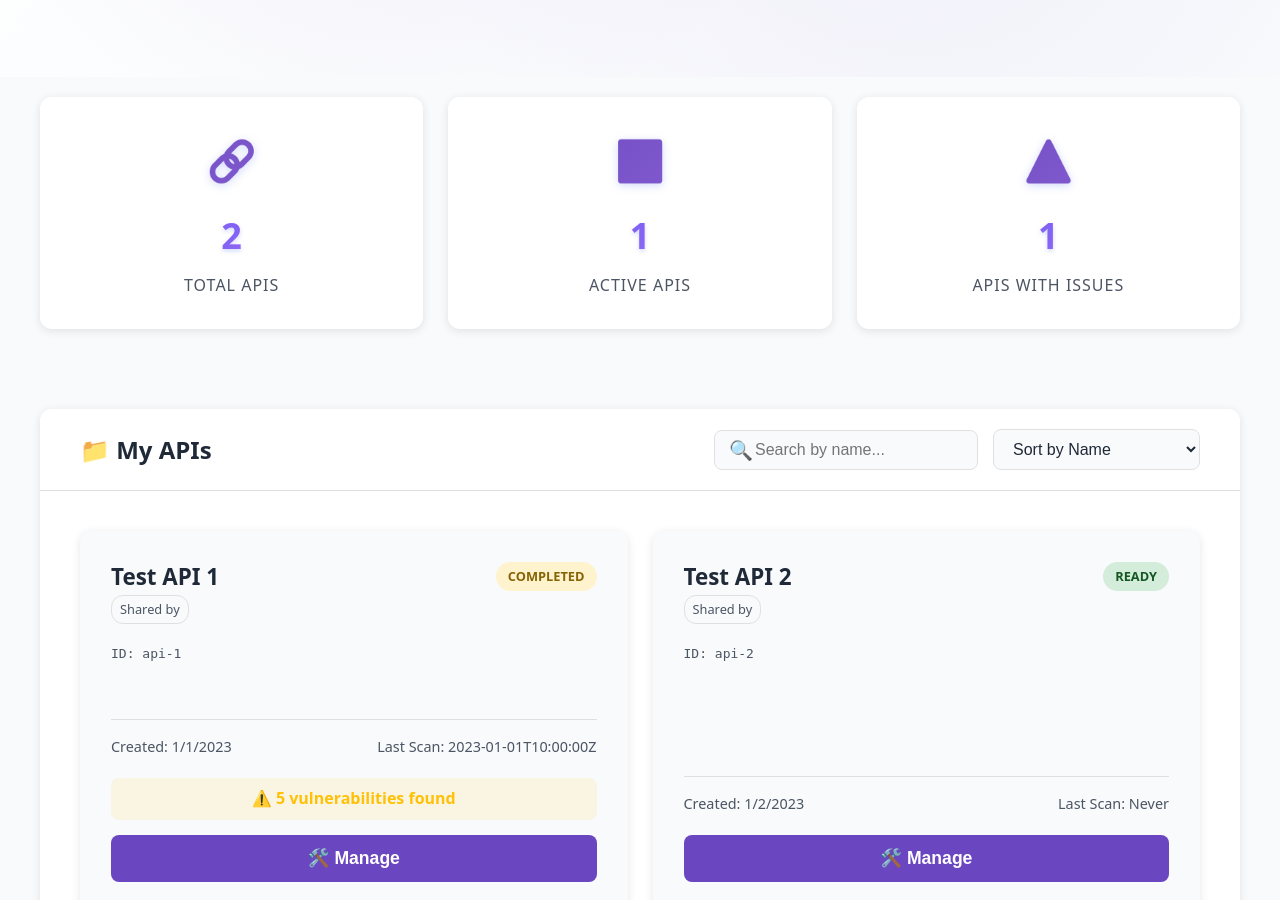
Scenario: ManageAPIs Component - Working Additional Tests › search input filters APIs
The image size is (1280, 900).
Expected: the heading "Test API 1" is shown, [111, 561, 219, 592]
Expected: the heading "Test API 2" is shown, [684, 561, 792, 592]
Type "Test API 1" into the field with placeholder "Search by name...".
click(846, 450); type("Test API 1")  # box [714, 430, 978, 470]
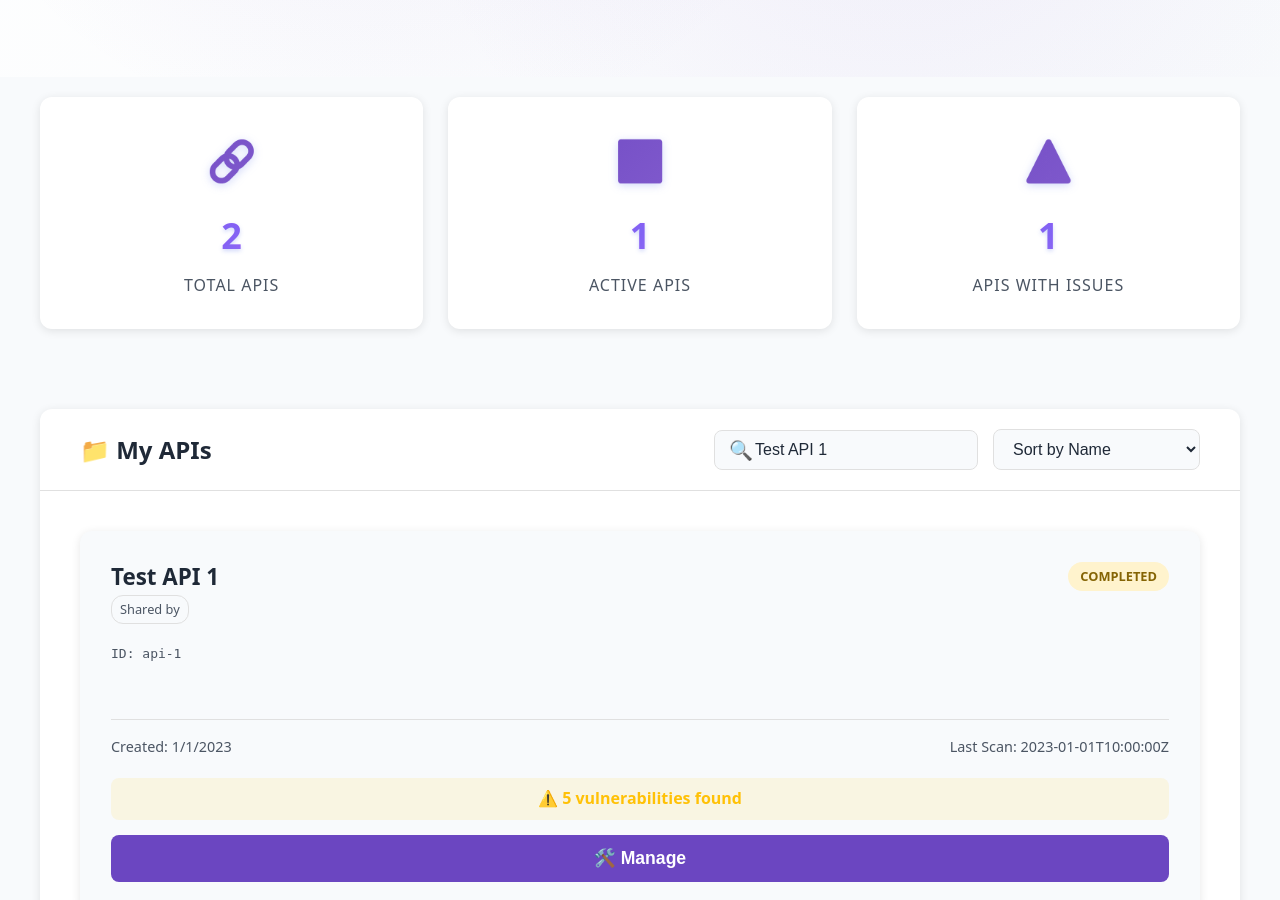
Expected: the heading "Test API 1" is shown, [111, 561, 219, 592]
Expected: the heading "Test API 2" is gone
